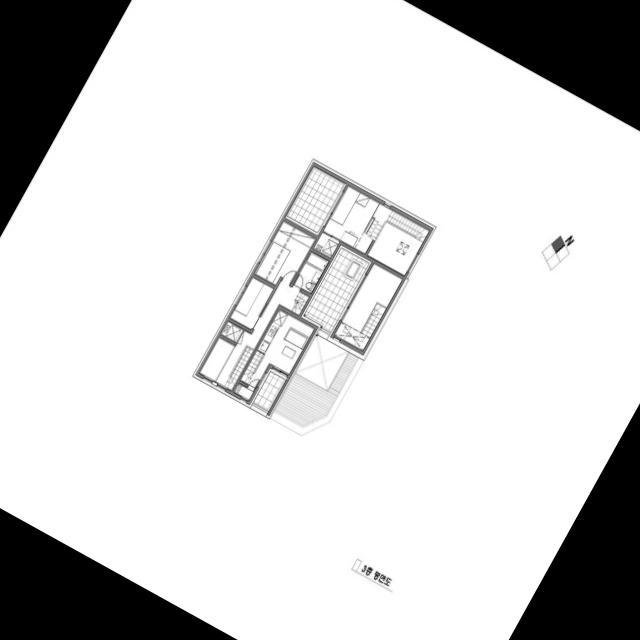background: (0, 0, 640, 640)
space_balconi: (304, 248, 369, 332), (287, 167, 344, 233), (253, 372, 286, 411)
space_bedroom: (255, 221, 315, 285), (324, 186, 379, 254), (230, 278, 273, 329)
space_dressroom: (313, 233, 339, 258)
space_kitchen: (248, 310, 314, 389)
space_living_room: (200, 281, 299, 387)
space_other: (334, 264, 402, 351), (368, 222, 422, 276), (221, 322, 243, 342), (234, 384, 253, 400)
space_staircase: (367, 204, 429, 243), (224, 347, 253, 391), (361, 304, 386, 338), (240, 351, 264, 384), (292, 292, 309, 315)
space_toilet: (293, 252, 329, 294)
